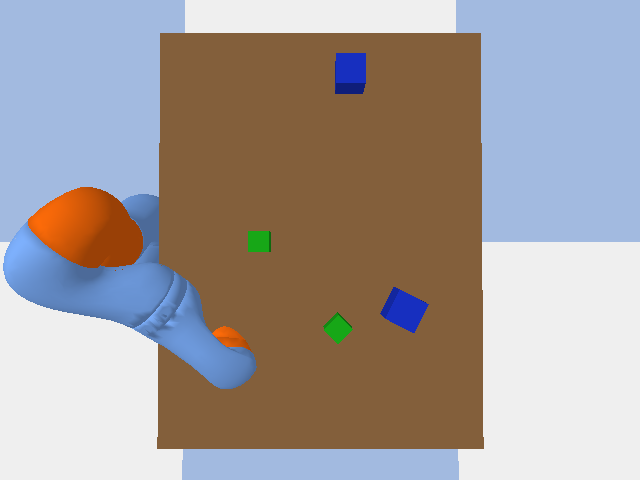blue_obj: (380, 287, 428, 332), (335, 53, 365, 93)
green_obj: (323, 312, 352, 343), (248, 231, 270, 251)
